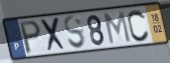8: (86, 14, 106, 48)
C: (126, 9, 151, 43)
M: (103, 10, 133, 45)
P: (19, 19, 43, 56)
S: (63, 14, 88, 51)
X: (39, 16, 68, 54)
